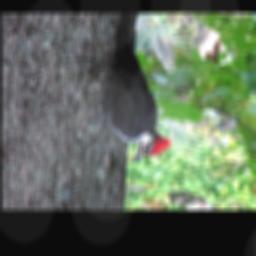Woodpecker: (88, 14, 174, 165)
